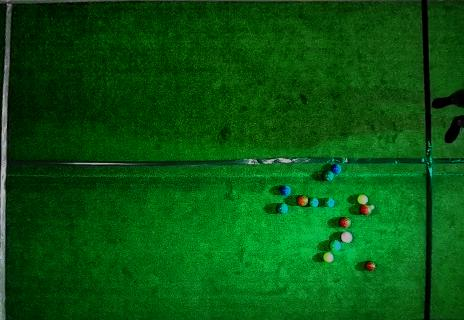blue: (280, 186, 291, 196), (332, 164, 341, 174)
green: (330, 240, 341, 251), (323, 171, 334, 181), (277, 204, 288, 214), (309, 198, 319, 207), (324, 198, 334, 207)
red: (341, 231, 353, 243), (297, 195, 308, 206), (339, 218, 351, 228), (359, 205, 371, 215), (365, 261, 376, 271)
vline: (421, 0, 463, 319), (0, 0, 14, 319)
white: (370, 205, 375, 210)
yellow: (323, 252, 334, 263), (357, 195, 368, 205)
